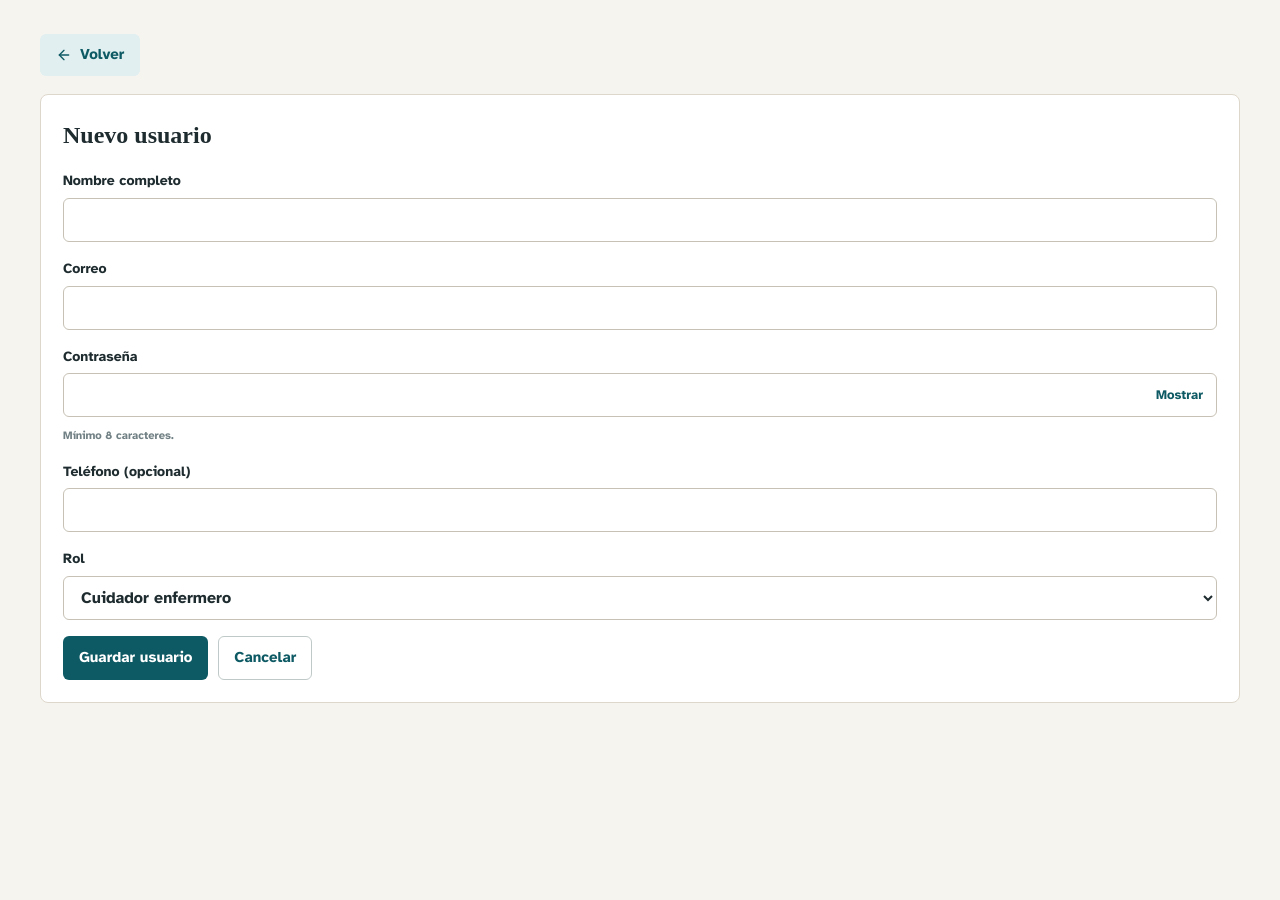
Test: FormularioUsuario › muestra el conflicto de correo duplicado (409) sobre el campo correo
In the field labelled "Nombre completo": (640, 220) [63,198,1217,242], type "Ana Gomez"
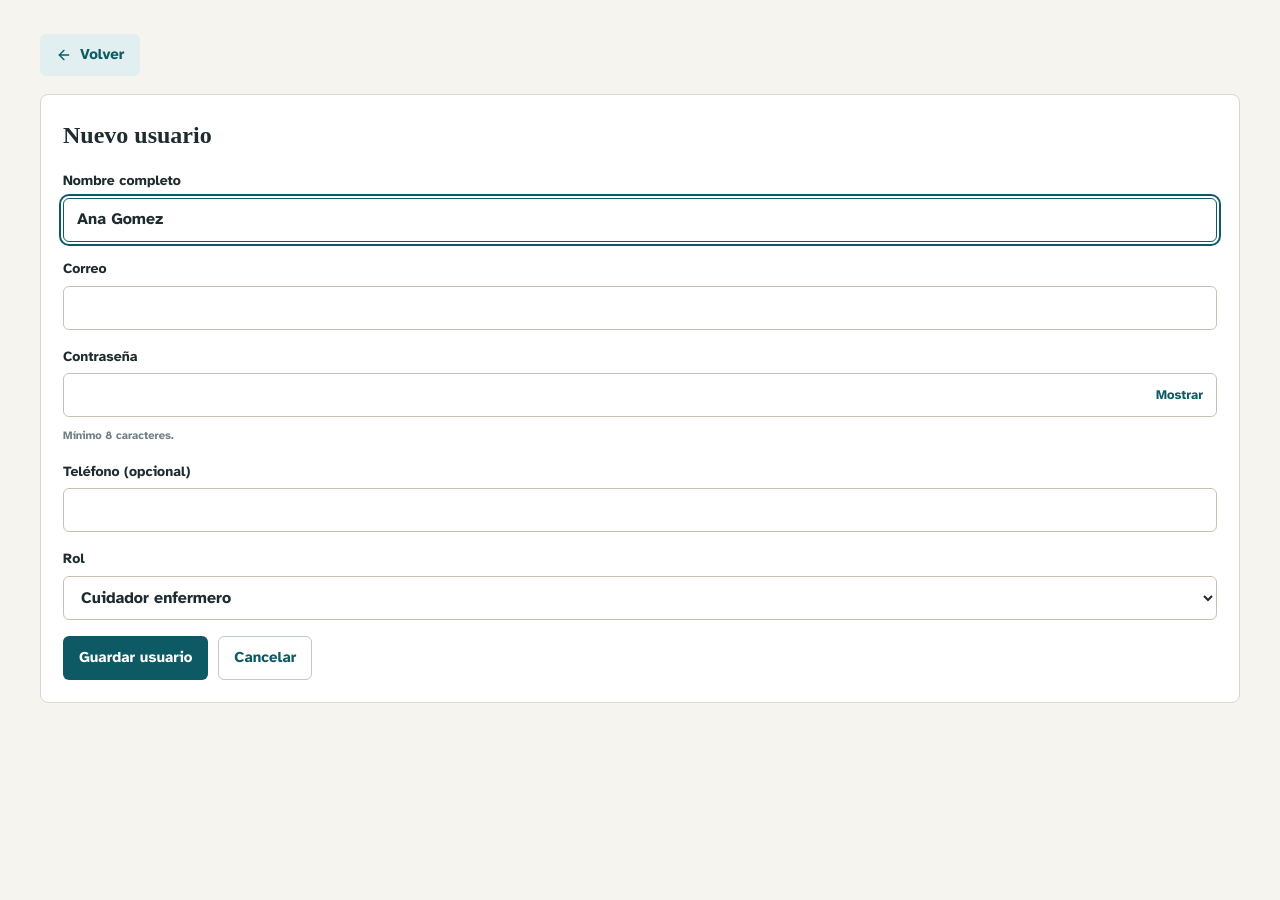
In the field labelled "Correo": (640, 308) [63,286,1217,330], type "ana@ejemplo.com"
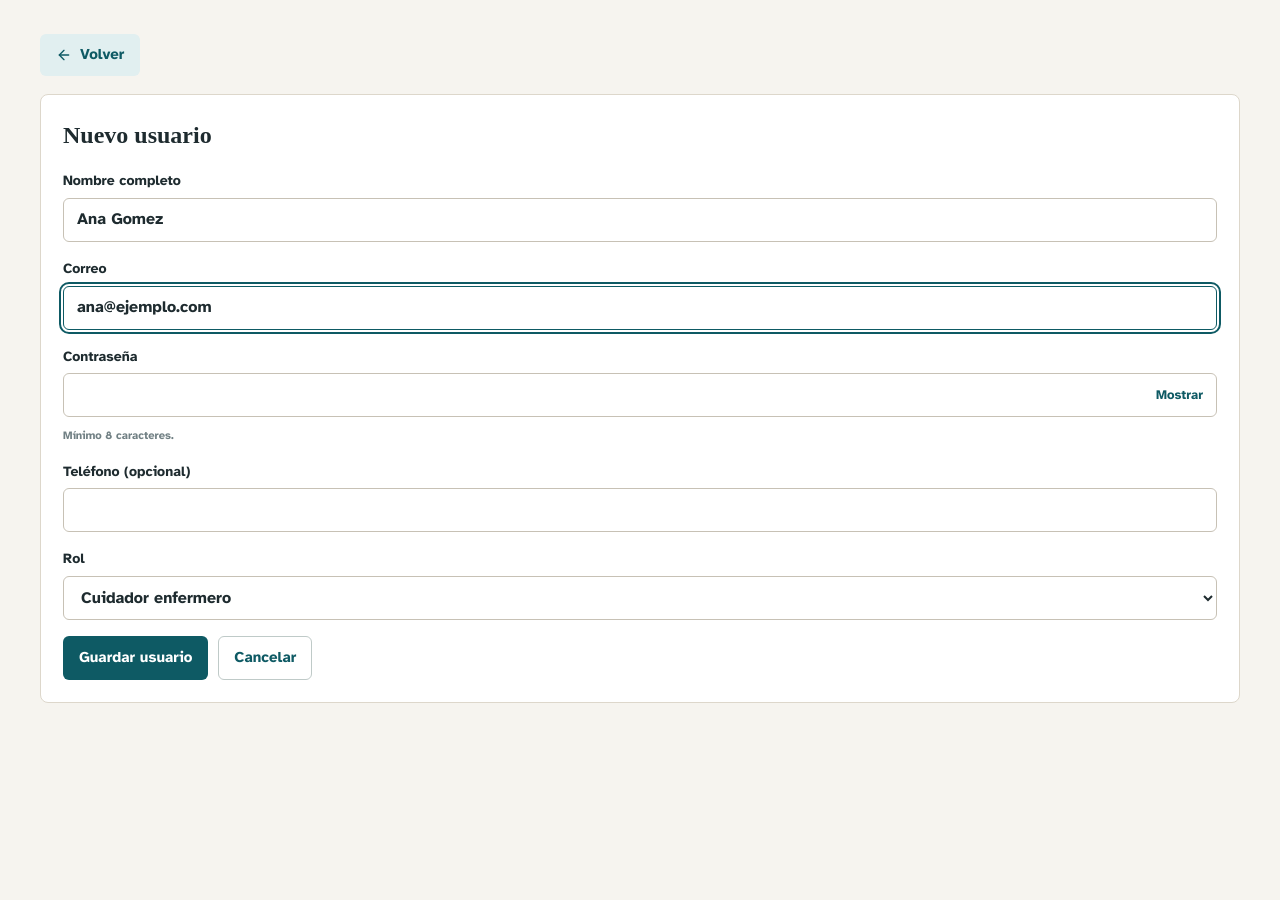
In the password field labelled "Contraseña Mostrar Mínimo 8 caracteres.": (640, 395) [63,373,1217,417], type "secreta123"
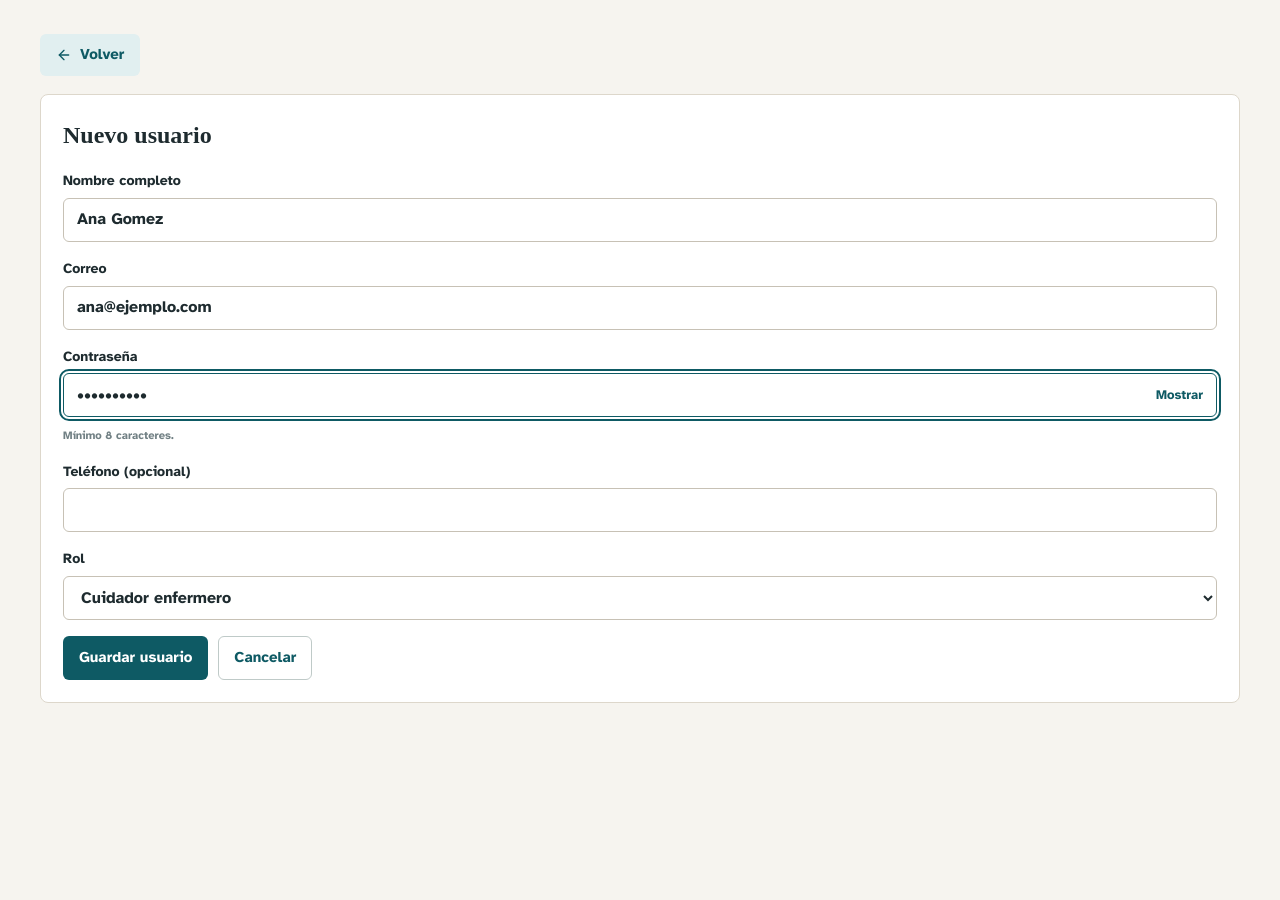
Click the button "Guardar usuario": click(136, 658) [63,636,208,680]
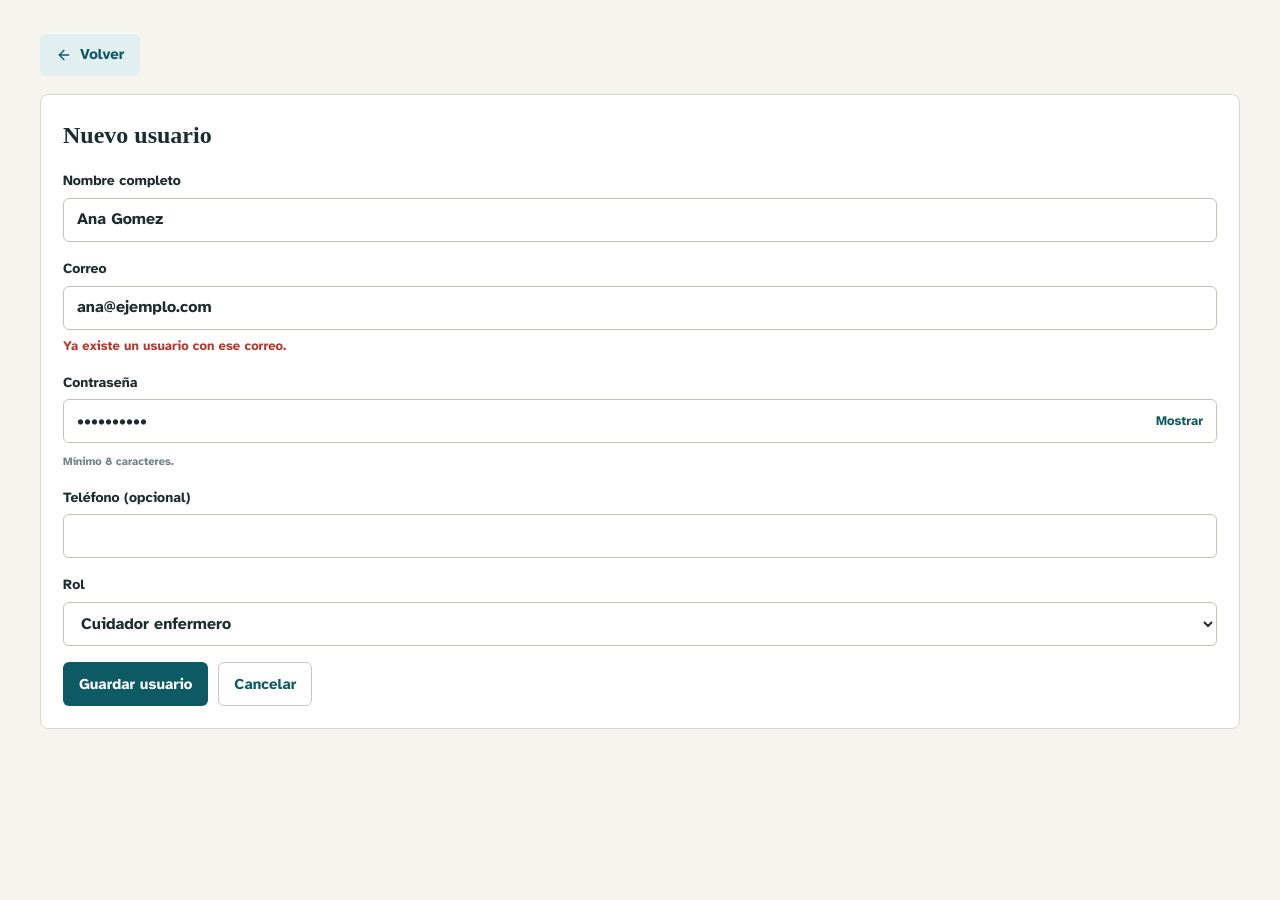
Expected: the text "Ya existe un usuario con ese correo." is shown, [63,338,286,354]
